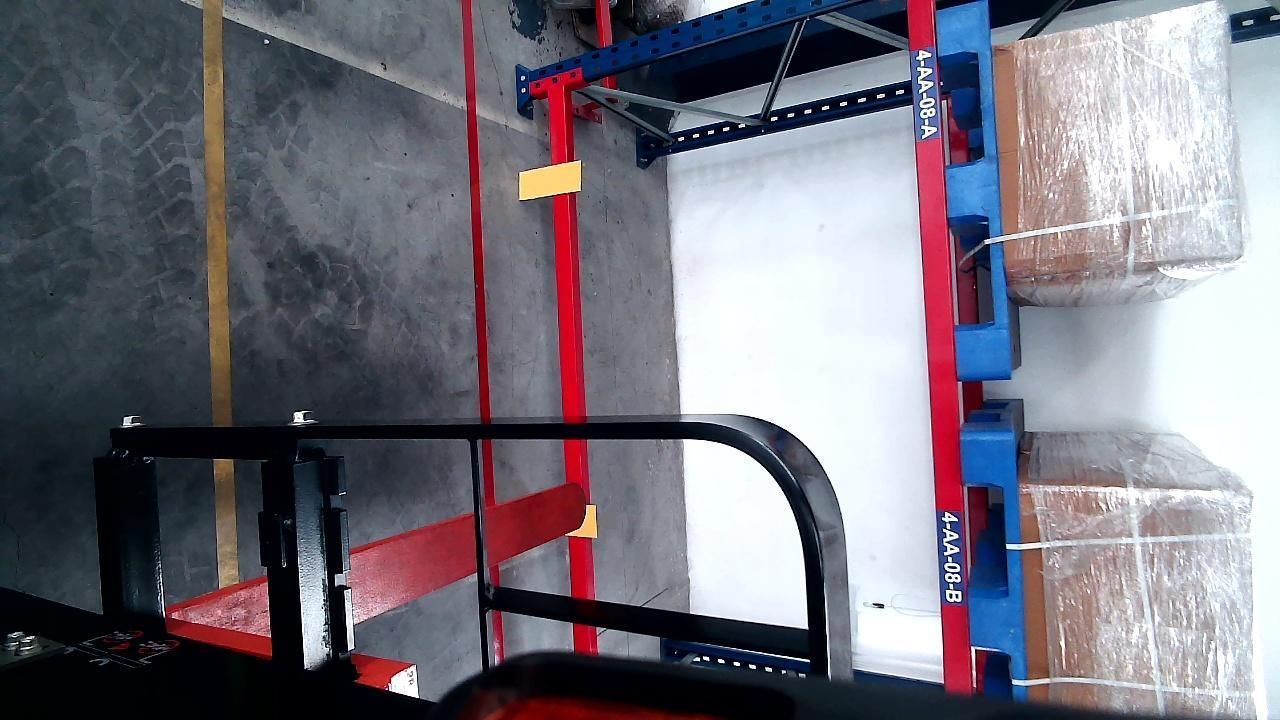h_rack: (912, 0, 969, 692), (549, 79, 591, 660)
orange_strip: (518, 161, 581, 200)
red_line: (462, 0, 507, 659)
small_pallet: (938, 0, 1009, 377), (965, 432, 1025, 696)
yellow_line: (205, 1, 240, 582)
